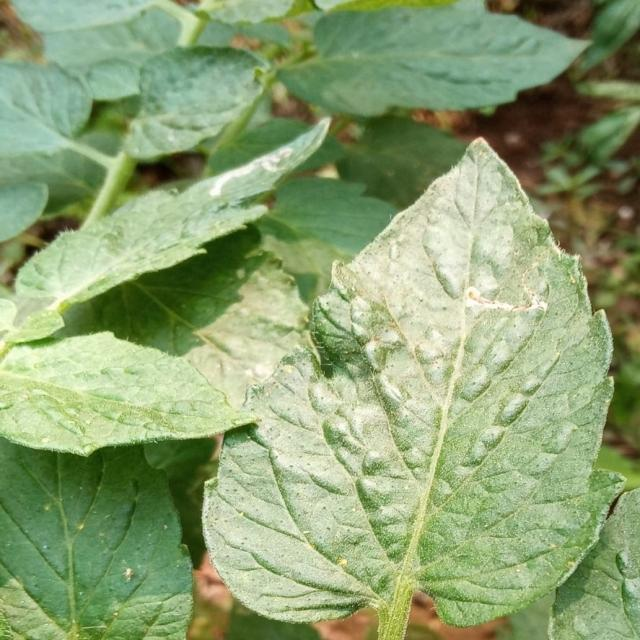Tuta absoluta: (464, 286, 548, 315)
